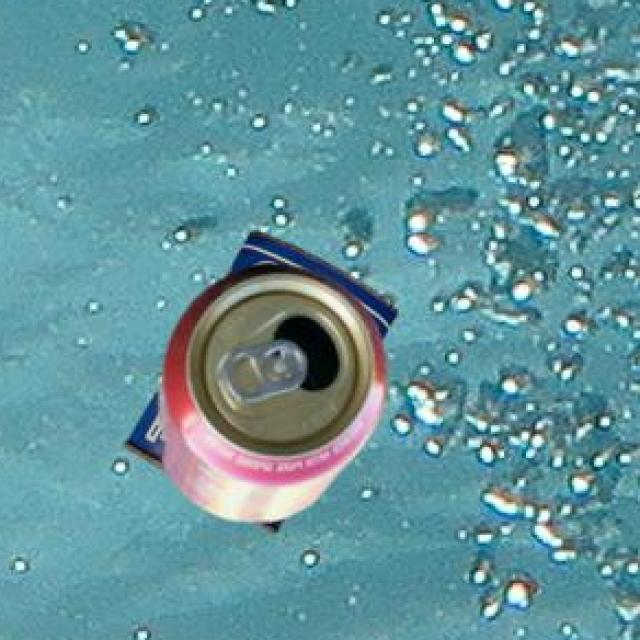logam: (122, 236, 393, 473), (157, 268, 382, 525)
